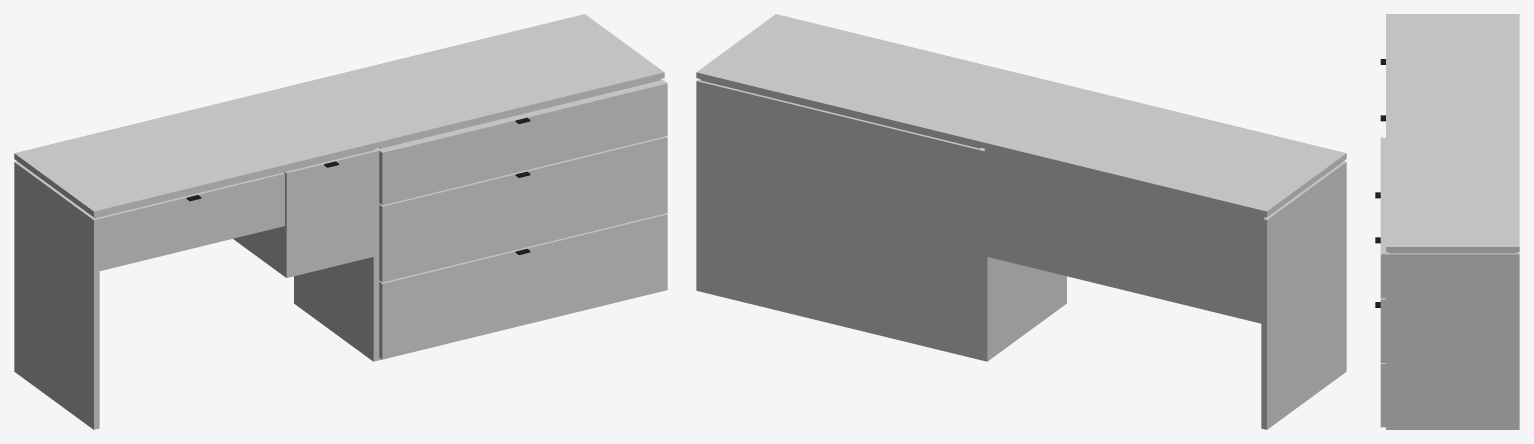
The model's file is dressing_table.glb.
3 renders of one model, left to right at view 1: azimuth 30°, elevation 25°; view 2: azimuth 150°, elevation 25°; view 3: azimuth 270°, elevation 25°, orthographic. The views are drawn at different scales.
Visible parts, largest first — view 1: Geom3D_ (×9), Geom3D (×3); view 2: Geom3D_ (×5), Geom3D (×3); view 3: Geom3D (×3), Geom3D_ (×4).
Boxes of the visible parts, x1,y1,x2,y2 form: Geom3D_ (×9): [14, 81, 667, 429]; Geom3D (×3): [14, 14, 664, 360]; Geom3D_ (×5): [696, 81, 1346, 429]; Geom3D (×3): [696, 14, 1346, 211]; Geom3D (×3): [1386, 14, 1519, 254]; Geom3D_ (×4): [1380, 137, 1519, 429].
Size of the model in its own units: 2.07 by 0.756 by 0.54.
2 materials, 1 textured.
